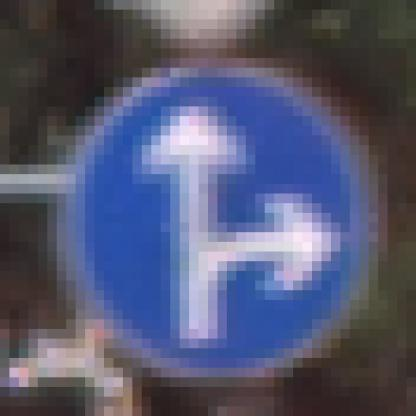Straight or Right: (49, 49, 361, 369)
